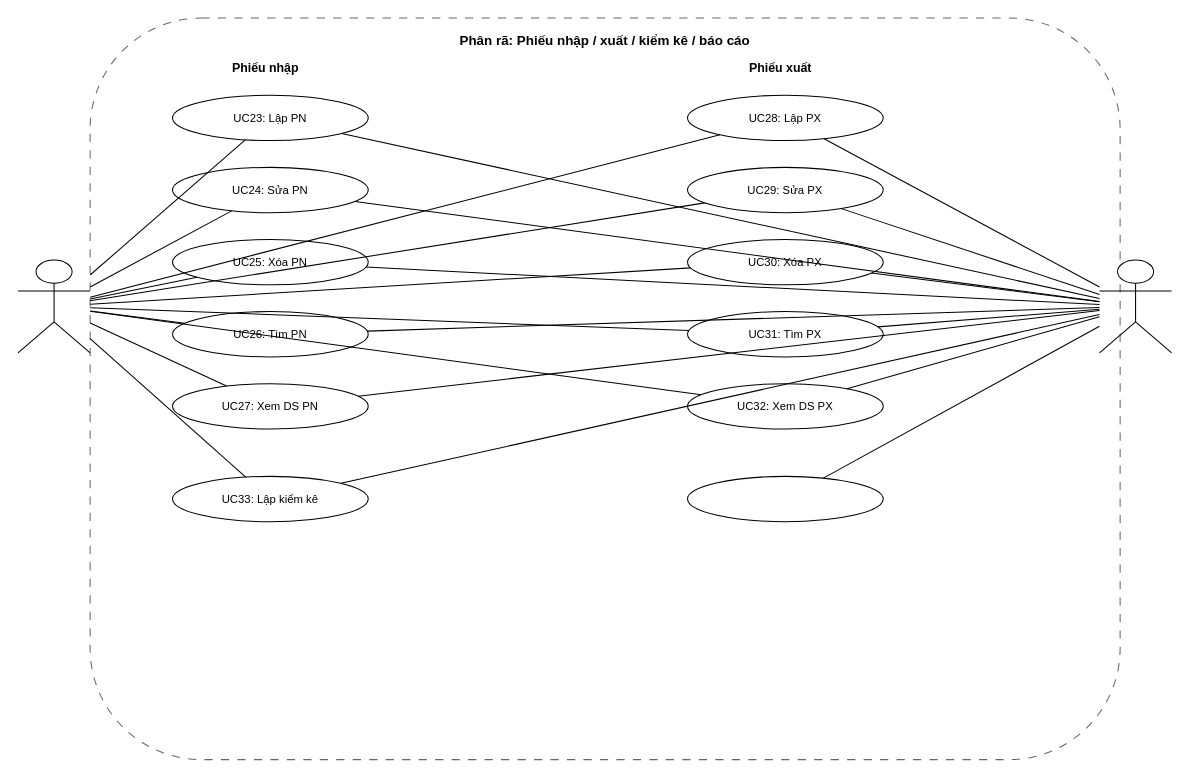
Image size: 1190x778. Some labels were removed from this diagram. Here are the shapes that lost their labels. From the top down, the centre of each, then its label:
[53,306]: NV kho
[1135,306]: QL kho
[784,498]: UC34: Xem BC tồn
